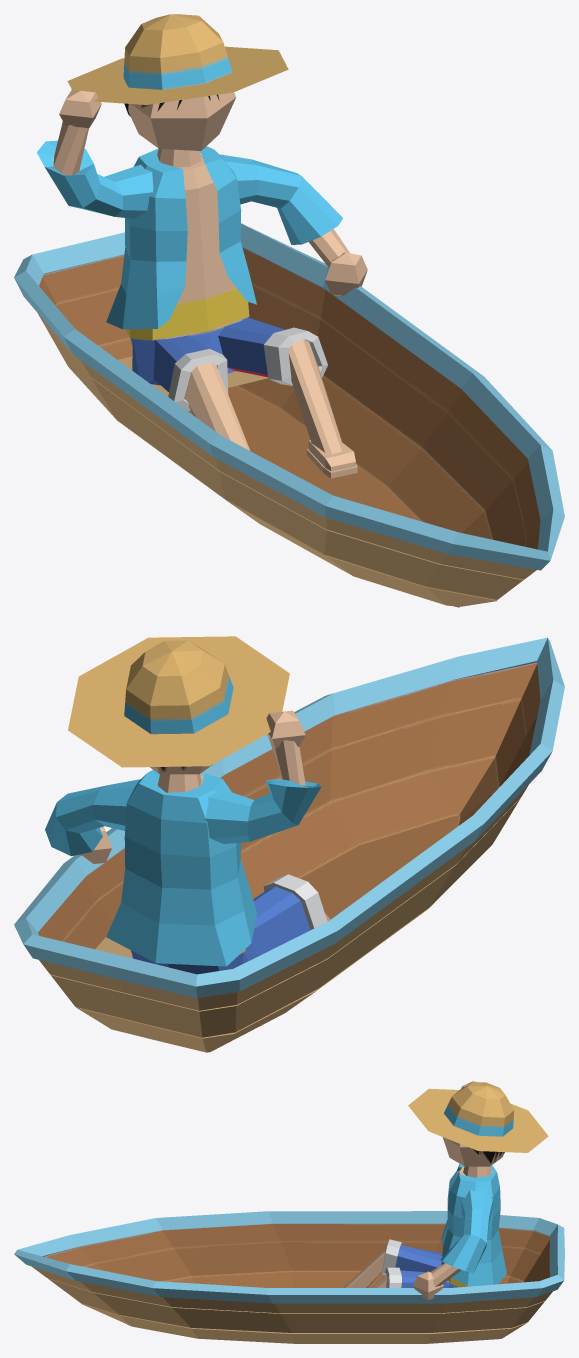
File: bg_small_boat_player_1_blue.gltf
The picture shows the model from 3 angles, top to bottom: view 1: azimuth 30°, elevation 25°; view 2: azimuth 150°, elevation 25°; view 3: azimuth 270°, elevation 25°; orthographic projection. The views are drawn at different scales.
Visible parts, largest first — view 1: Boat; view 2: Boat; view 3: Boat.
Part boxes in pixels (box(x1,y1,x2,y2)): Boat: box(14, 14, 564, 607); Boat: box(14, 636, 564, 1052); Boat: box(14, 1081, 564, 1343).
Bounding box in the file's own units: 3.03 × 3.85 × 8.05.
Materials: 1 (1 with a texture image).
